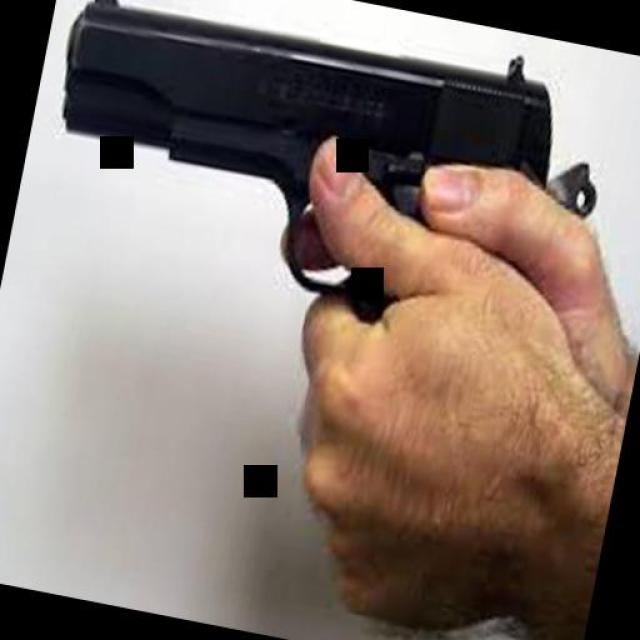gun: (23, 0, 622, 360)
